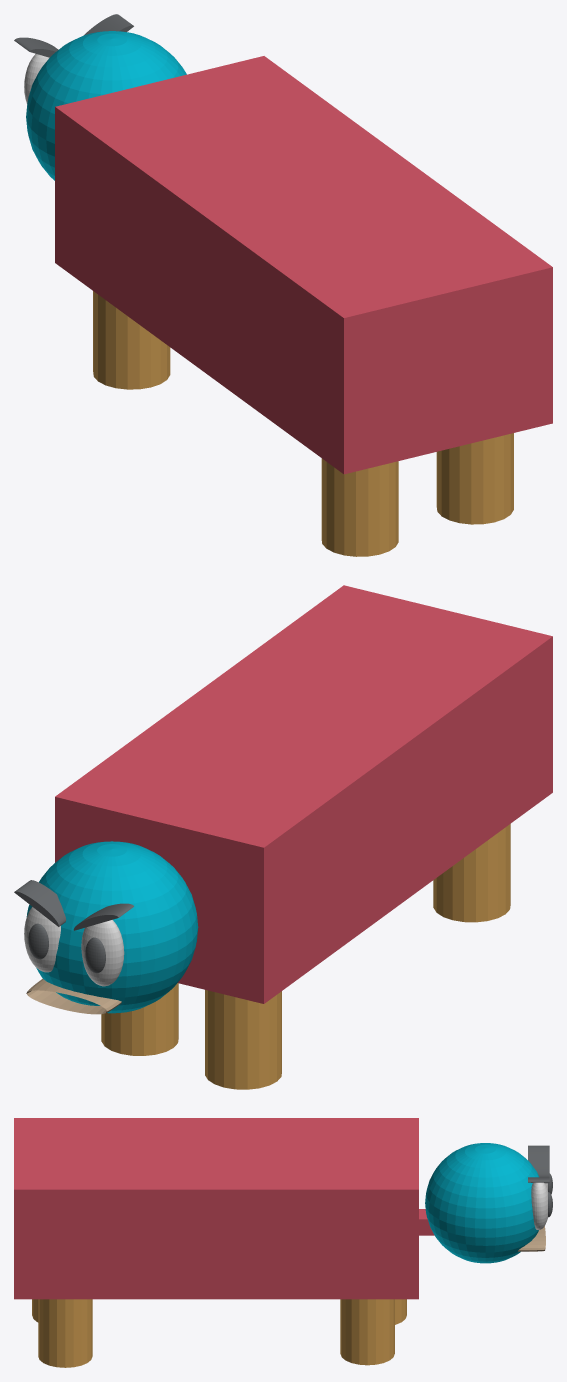
File: monster-dog.gltf
3 views of the same model, one above another, from view 1: azimuth 30°, elevation 25°; view 2: azimuth 150°, elevation 25°; view 3: azimuth 270°, elevation 25° (orthographic). The views are drawn at different scales.
Parts seen in each view (by area): view 1: Mesh_Mesh_head_geo.001_lambert2SG.001; view 2: Mesh_Mesh_head_geo.001_lambert2SG.001; view 3: Mesh_Mesh_head_geo.001_lambert2SG.001.
Part boxes in pixels (box(x1,y1,x2,y2)): Mesh_Mesh_head_geo.001_lambert2SG.001: box(14, 14, 552, 556); Mesh_Mesh_head_geo.001_lambert2SG.001: box(14, 585, 552, 1089); Mesh_Mesh_head_geo.001_lambert2SG.001: box(14, 1118, 552, 1367).
Size of the model in its own units: 28 by 34 by 89.16.
